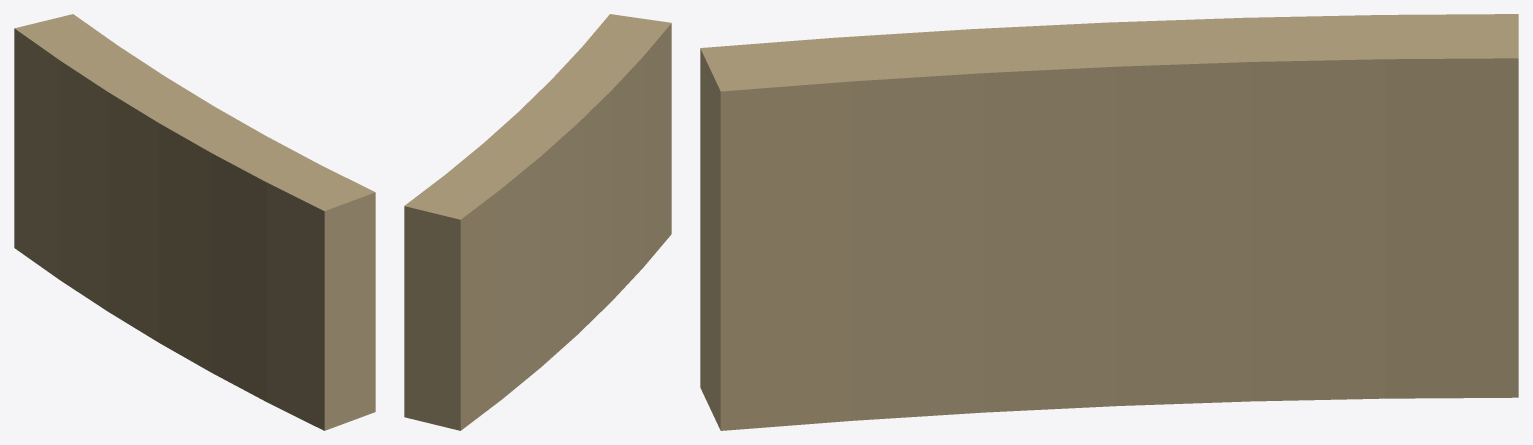
File: road_curve_guarded_left_11_25_collision_1.fbx
3 renders of one model, left to right at view 1: azimuth 30°, elevation 25°; view 2: azimuth 150°, elevation 25°; view 3: azimuth 270°, elevation 25°, orthographic. The views are drawn at different scales.
Parts seen in each view (by area): view 1: Parapet collider.002; view 2: Parapet collider.002; view 3: Parapet collider.002.
Part boxes in pixels (x1=…): Parapet collider.002: x1=14, y1=14, x2=375, y2=430; Parapet collider.002: x1=404, y1=14, x2=671, y2=430; Parapet collider.002: x1=700, y1=14, x2=1518, y2=430.
Bounding box in the file's own units: 4898 × 21850 × 10000.
